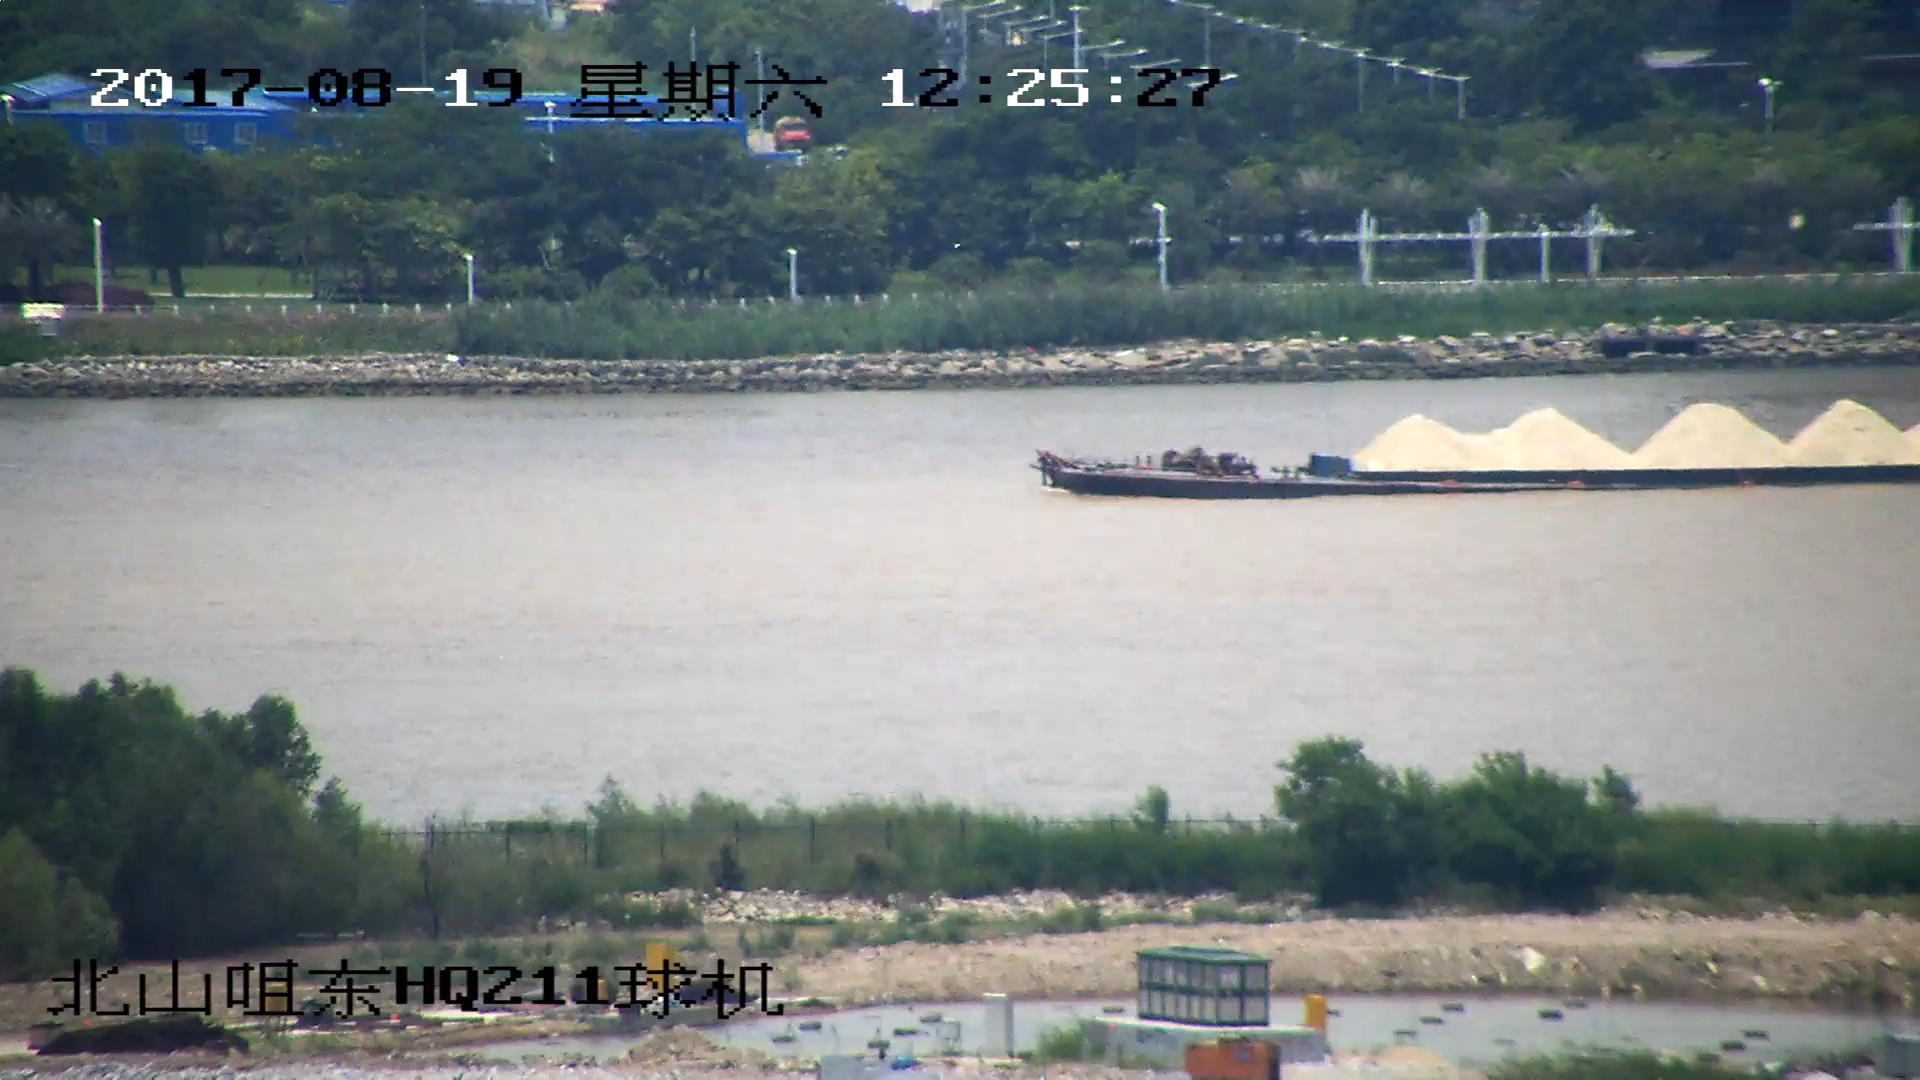Ship: (1036, 401, 1920, 504)
